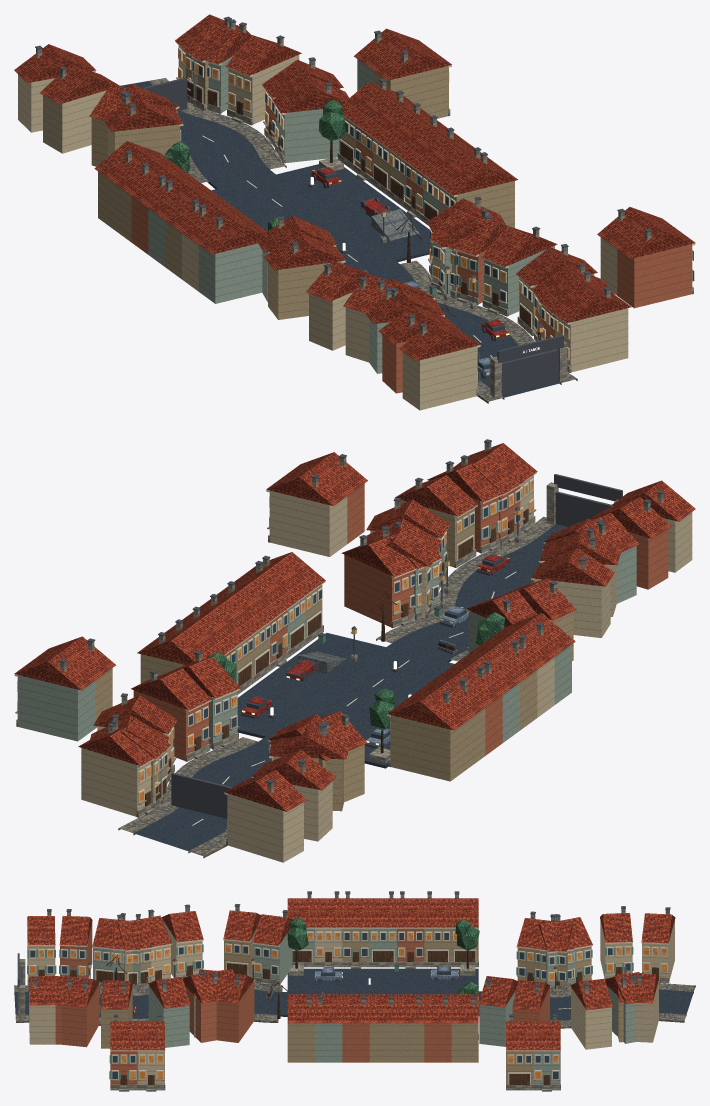
The model's file is MB_Route_A.fbx.
3 renders of one model, top to bottom at view 1: azimuth 30°, elevation 25°; view 2: azimuth 150°, elevation 25°; view 3: azimuth 270°, elevation 25°, orthographic. The views are drawn at different scales.
Visible parts, largest first — view 1: Floor_A_Court, MB_Route_A_Dressing_2_-1.002, MB_Route_A_Dressing_3_-1.001, MB_Route_A_Dressing_1_-1, MB_Route_A_Dressing_1_-1.003, MB_Route_A_Dressing_4_-1.002, MB_Route_A_Dressing_2_-1.001, Floor_A_Street, MB_Route_A_Dressing_3_-1, MB_Route_A_Dressing_1_-1.001, MB_Route_A_Dressing_4_-1.003, FacadeBay (+22 smaller); view 2: MB_Route_A_Dressing_3_-1.001, MB_Route_A_Dressing_4_-1.002, Floor_A_Court, MB_Route_A_Dressing_1_-1.003, Floor_A_Street, MB_Route_A_Dressing_1_-1, MB_Route_A_Dressing_2_-1.002, MB_Route_A_Dressing_4_-1.001, MB_Route_A_Dressing_2_-1, FacadeBay.023, MB_Route_A_Dressing_3_-1, MB_Route_A_Dressing_4_-1 (+20 smaller); view 3: MB_Route_A_Dressing_3_-1.001, MB_Route_A_Dressing_1_-1, MB_Route_A_Dressing_4_-1.002, MB_Route_A_Dressing_2_-1.002, MB_Route_A_Dressing_1_-1.003, MB_Route_A_Dressing_1_-1.001, MB_Route_A_Dressing_4_-1.001, Floor_A_Court, MB_Route_A_Dressing_3_-1, MB_Route_A_Dressing_2_-1.001, MB_Route_A_Dressing_3_-1.002, MB_Route_A_Dressing_4_-1 (+22 smaller).
Part boxes in pixels (<box>): Floor_A_Court: <box>211,164,430,268</box>; MB_Route_A_Dressing_2_-1.002: <box>195,143,500,303</box>; MB_Route_A_Dressing_3_-1.001: <box>94,78,467,242</box>; MB_Route_A_Dressing_1_-1: <box>378,219,695,393</box>; MB_Route_A_Dressing_1_-1.003: <box>343,207,678,372</box>; MB_Route_A_Dressing_4_-1.002: <box>14,14,301,132</box>; MB_Route_A_Dressing_2_-1.001: <box>264,152,517,319</box>; Floor_A_Street: <box>120,81,561,397</box>; MB_Route_A_Dressing_3_-1: <box>145,76,348,266</box>; MB_Route_A_Dressing_1_-1.001: <box>365,226,557,373</box>; MB_Route_A_Dressing_4_-1.003: <box>182,16,451,118</box>; FacadeBay: <box>399,321,480,410</box>; MB_Route_A_Dressing_3_-1.001: <box>137,590,488,781</box>; MB_Route_A_Dressing_4_-1.002: <box>78,693,306,862</box>; Floor_A_Court: <box>237,633,454,768</box>; MB_Route_A_Dressing_1_-1.003: <box>266,439,620,616</box>; Floor_A_Street: <box>134,524,567,852</box>; MB_Route_A_Dressing_1_-1: <box>284,452,671,589</box>; MB_Route_A_Dressing_2_-1.002: <box>225,521,575,704</box>; MB_Route_A_Dressing_4_-1.001: <box>14,649,324,803</box>; MB_Route_A_Dressing_2_-1: <box>386,526,614,637</box>; FacadeBay.023: <box>341,534,416,628</box>; MB_Route_A_Dressing_3_-1: <box>162,650,523,749</box>; MB_Route_A_Dressing_4_-1: <box>267,711,367,811</box>; MB_Route_A_Dressing_3_-1.001: <box>369,891,478,1062</box>; MB_Route_A_Dressing_1_-1: <box>59,909,138,1091</box>; MB_Route_A_Dressing_4_-1.002: <box>570,907,675,1049</box>; MB_Route_A_Dressing_2_-1.002: <box>193,891,342,1062</box>; MB_Route_A_Dressing_1_-1.003: <box>29,909,172,1091</box>; MB_Route_A_Dressing_1_-1.001: <box>92,913,190,1047</box>; MB_Route_A_Dressing_4_-1.001: <box>533,914,639,1091</box>; Floor_A_Court: <box>287,968,478,994</box>; MB_Route_A_Dressing_3_-1: <box>369,891,517,1046</box>; MB_Route_A_Dressing_2_-1.001: <box>223,904,314,1062</box>; MB_Route_A_Dressing_3_-1.002: <box>342,994,451,1062</box>; MB_Route_A_Dressing_4_-1: <box>516,911,592,991</box>.
Size of the model in its own units: 5173 by 978 by 9998.
Materials: 25 (16 with a texture image).
